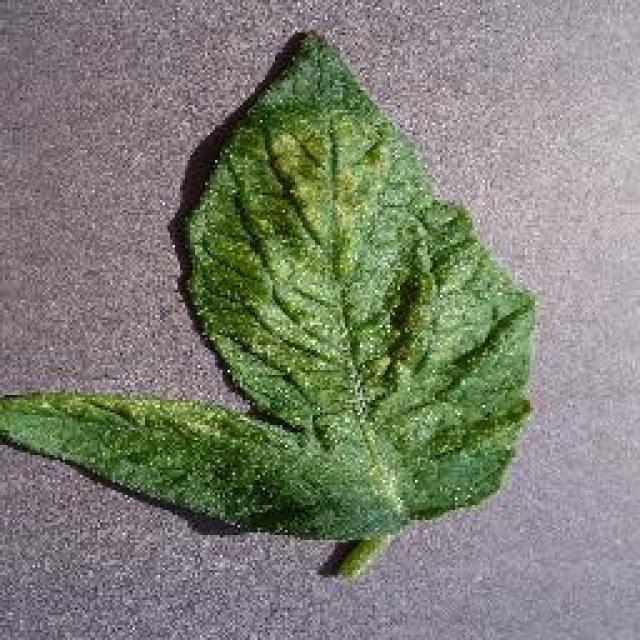Tomato mosaic virus leaf: (2, 30, 532, 542)
